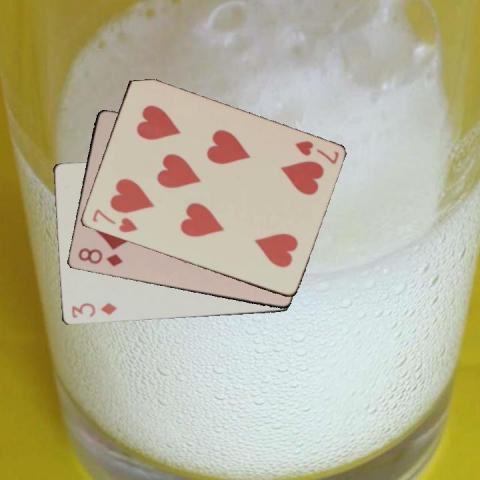3d: (68, 300, 118, 320)
7h: (89, 206, 139, 235), (291, 138, 340, 166)
8d: (75, 245, 124, 268)
